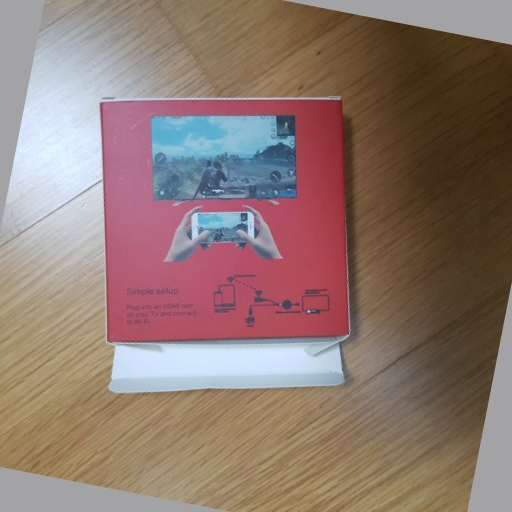Paper_0: (91, 89, 372, 397)
